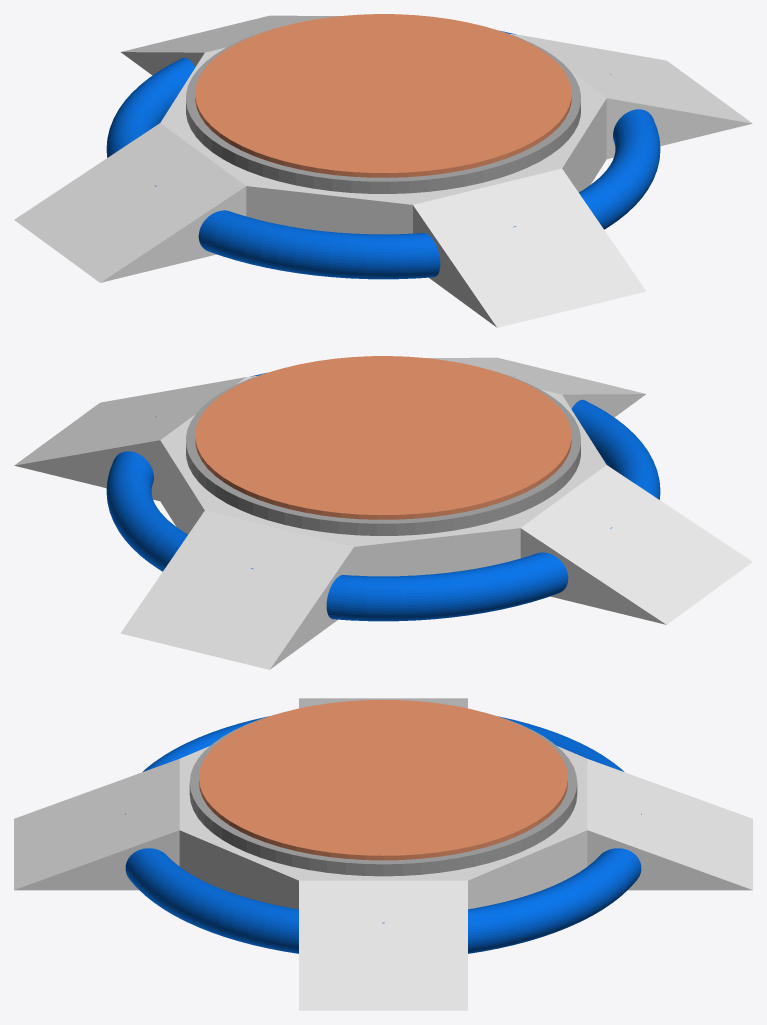
The model's file is warpMachine.fbx.
The picture shows the model from 3 angles, top to bottom: view 1: azimuth 30°, elevation 25°; view 2: azimuth 150°, elevation 25°; view 3: azimuth 270°, elevation 25°; orthographic projection. The views are drawn at different scales.
Parts seen in each view (by area): view 1: 円柱, 円柱.002, トーラス, 円柱.001; view 2: 円柱, 円柱.002, トーラス, 円柱.001; view 3: 円柱, 円柱.002, トーラス, 円柱.001.
Part boxes in pixels (box(x1,y1,x2,y2)): 円柱: box(14, 15, 752, 327); 円柱.002: box(195, 14, 571, 177); トーラス: box(106, 31, 660, 279); 円柱.001: box(186, 29, 580, 193); 円柱: box(14, 357, 752, 669); 円柱.002: box(195, 356, 571, 519); トーラス: box(106, 373, 660, 621); 円柱.001: box(186, 371, 580, 535); 円柱: box(14, 698, 752, 1010); 円柱.002: box(199, 699, 567, 860); トーラス: box(125, 716, 641, 953); 円柱.001: box(189, 714, 577, 876).
Size of the model in its own units: 335 by 38.32 by 335.
